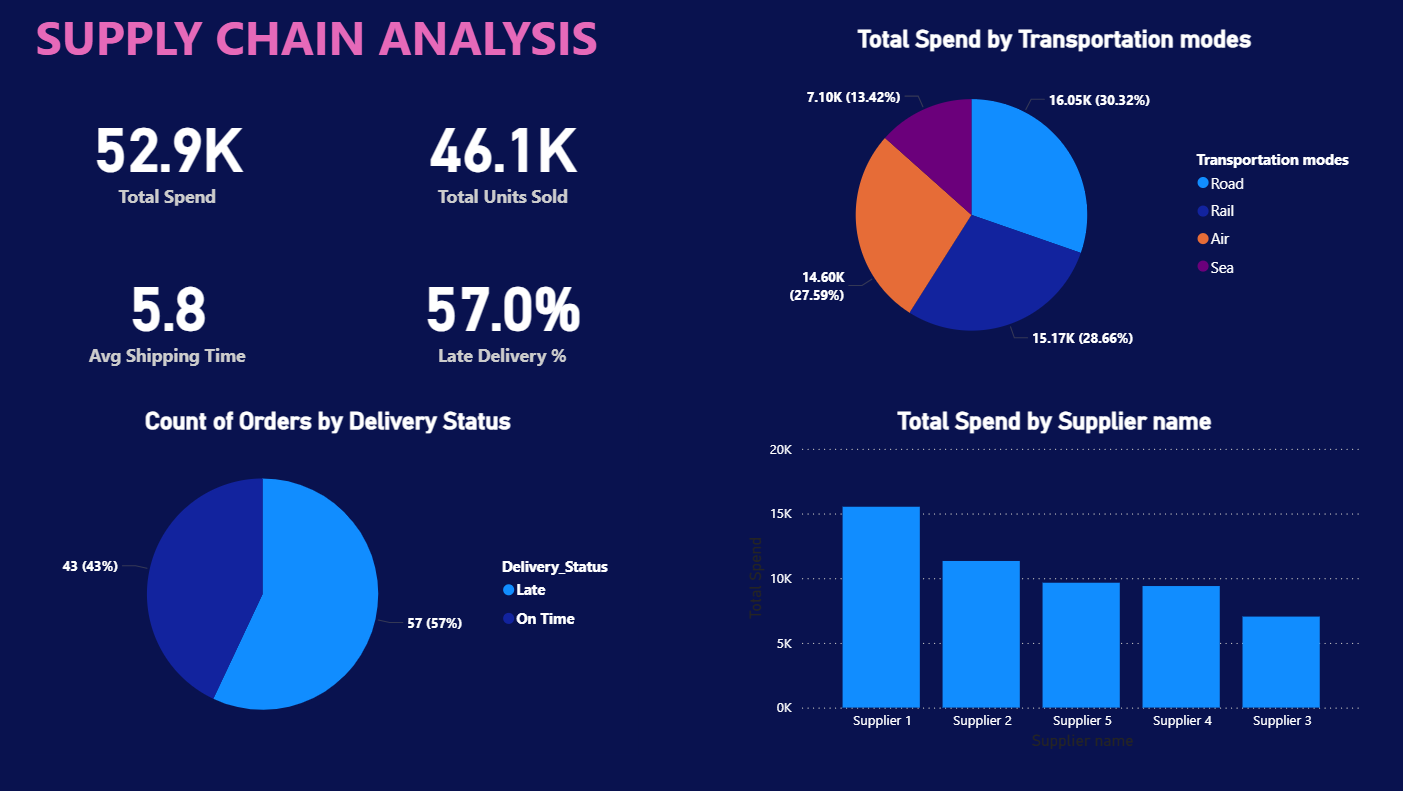

This screenshot's page, from the dashboard's own definition file:
{"tool":"powerbi","page":{"name":"Page 1","canvas":[1280,720],"ordinal":0},"visuals":[{"type":"card","fields":{"Values":["supply_chain_data.Total Spend"]},"box":[16.2,90,271.2,102.5],"z":0},{"type":"card","fields":{"Values":["supply_chain_data.Total Units Sold"]},"box":[332.5,90,248.8,102.5],"z":1000},{"type":"card","fields":{"Values":["supply_chain_data.Avg Shipping Time"]},"box":[16.2,226.2,271.2,118.8],"z":2000},{"type":"card","fields":{"Values":["supply_chain_data.Late Delivery %"]},"box":[332.5,226.2,247.5,118.8],"z":3000},{"type":"columnChart","fields":{"Category":["supply_chain_data.Supplier name"],"Y":["supply_chain_data.Total Spend"]},"box":[673.8,371.2,570,316.2],"z":4000},{"type":"pieChart","fields":{"Y":["supply_chain_data.Total Spend"],"Category":["supply_chain_data.Transportation modes"]},"box":[673.8,23.8,570,321.2],"z":5000},{"type":"pieChart","title":"Count of Orders by Delivery Status","fields":{"Category":["supply_chain_data.Delivery_Status"],"Y":["CountNonNull(supply_chain_data.Delivery_Status)"]},"box":[16.2,371.2,563.8,316.2],"z":6000},{"type":"textbox","box":[27,0,533,90],"z":7000}]}

Visuals, with their boxes in screenshot pixels (x1, y1, x2, y2), scaled from the page's 1280x720 canvas onto the 1403x791 screenshot:
card - supply_chain_data.Total Spend: <box>18,99,315,211</box>
card - supply_chain_data.Total Units Sold: <box>364,99,637,211</box>
card - supply_chain_data.Avg Shipping Time: <box>18,249,315,379</box>
card - supply_chain_data.Late Delivery %: <box>364,249,636,379</box>
columnChart - supply_chain_data.Supplier name x supply_chain_data.Total Spend: <box>739,408,1363,755</box>
pieChart - supply_chain_data.Total Spend x supply_chain_data.Transportation modes: <box>739,26,1363,379</box>
"Count of Orders by Delivery Status" pieChart: <box>18,408,636,755</box>
textbox: <box>30,0,614,99</box>
